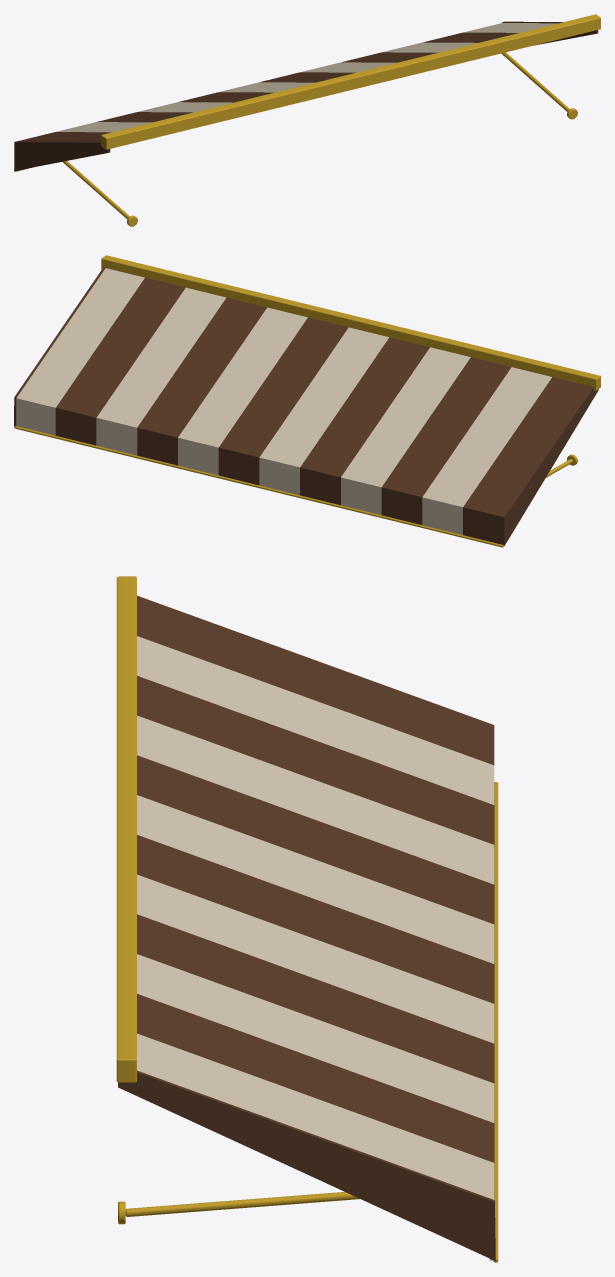
File: prop_awning.glb
The picture shows the model from 3 angles, top to bottom: view 1: azimuth 30°, elevation 25°; view 2: azimuth 150°, elevation 25°; view 3: azimuth 270°, elevation 25°; orthographic projection. The views are drawn at different scales.
Parts seen in each view (by area): view 1: Awning; view 2: Awning; view 3: Awning.
Part boxes in pixels (x1=…): Awning: x1=14, y1=14, x2=600, y2=226; Awning: x1=14, y1=255, x2=600, y2=547; Awning: x1=116, y1=576, x2=498, y2=1262.
Size of the model in its own units: 3.04 by 0.6069 by 1.01.
